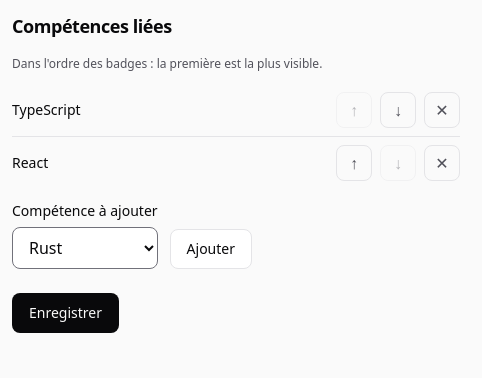
Test: SkillPicker › moves the focus to the skill just added when no other is left
Click the button "Ajouter".
click(211, 249)  # box [170,229,252,269]
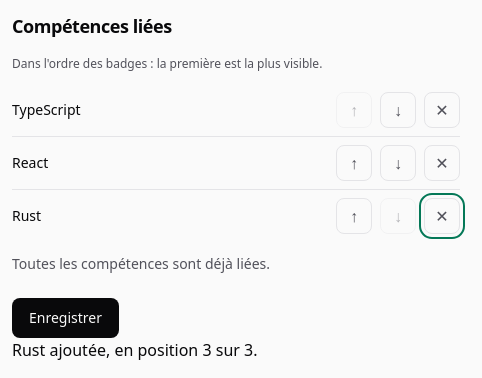
Now the text "Rust ajoutée, en position 3 sur 3." is shown, box [12,339,258,361]
